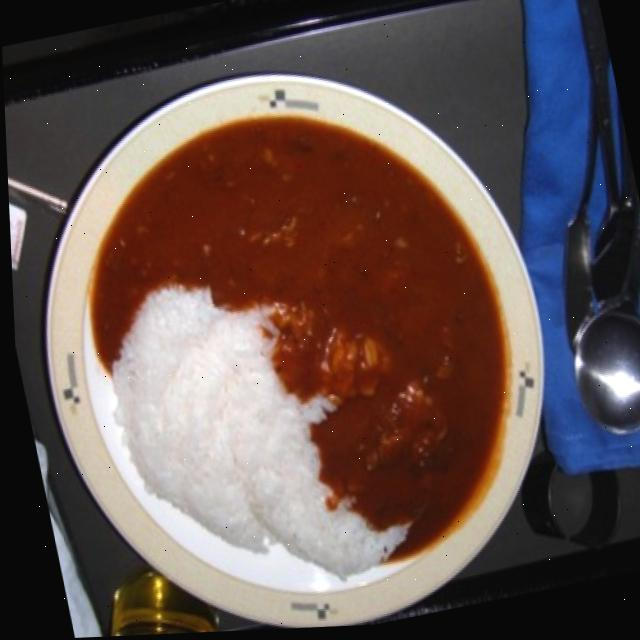牛肉菜式: (2, 28, 586, 640)
